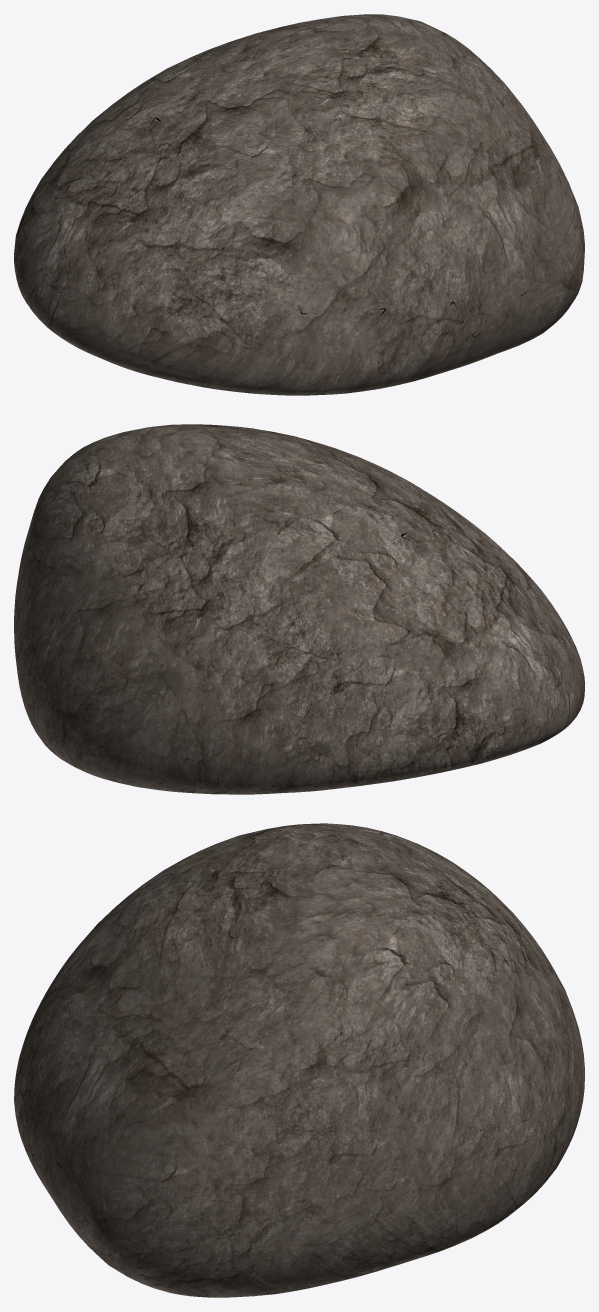
The model's file is rock.fbx.
The picture shows the model from 3 angles, top to bottom: view 1: azimuth 30°, elevation 25°; view 2: azimuth 150°, elevation 25°; view 3: azimuth 270°, elevation 25°; orthographic projection. The views are drawn at different scales.
Visible parts, largest first — view 1: Rock; view 2: Rock; view 3: Rock.
Part boxes in pixels (bbox=[...]): Rock: bbox=[14, 14, 584, 395]; Rock: bbox=[14, 424, 584, 794]; Rock: bbox=[14, 823, 584, 1297].
Bounding box in the file's own units: 204 × 111 × 167.
1 material, 1 textured.
